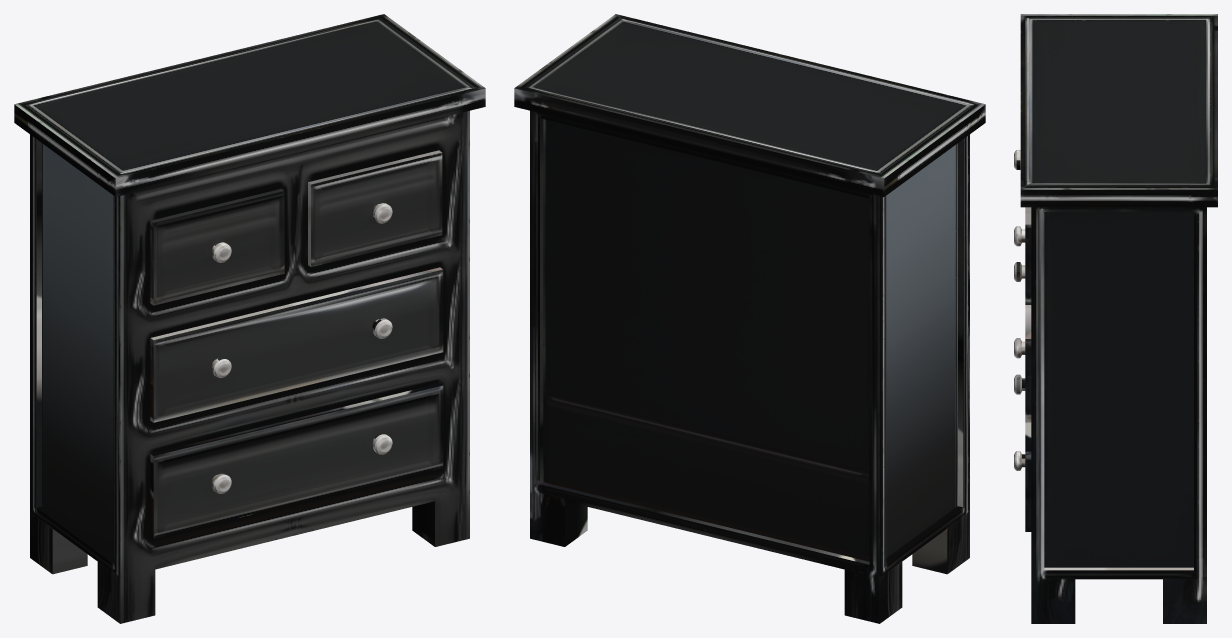
3 views of the same model, side by side, from view 1: azimuth 30°, elevation 25°; view 2: azimuth 150°, elevation 25°; view 3: azimuth 270°, elevation 25° (orthographic). The views are drawn at different scales.
Parts seen in each view (by area): view 1: textured.obj; view 2: textured.obj; view 3: textured.obj.
Part boxes in pixels (<box>): textured.obj: <box>14,14,485,623</box>; textured.obj: <box>514,14,985,623</box>; textured.obj: <box>1014,14,1217,623</box>.
Size of the model in its own units: 1.71 by 2 by 0.8411.
